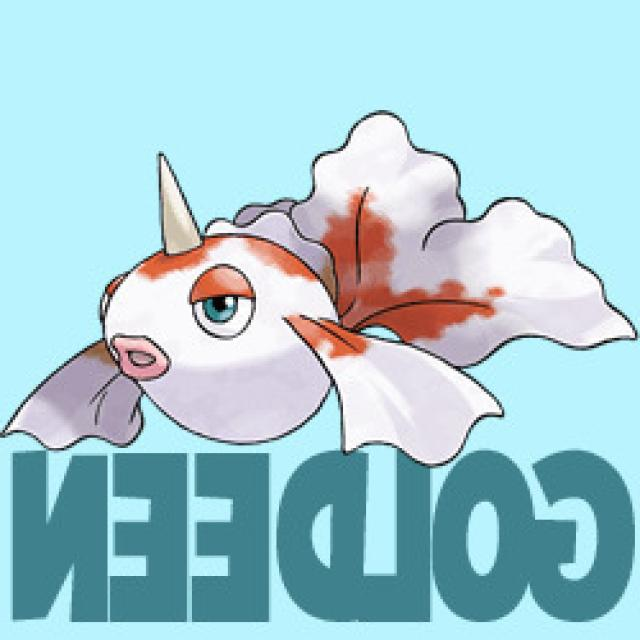Goldeen: (92, 148, 512, 452)
